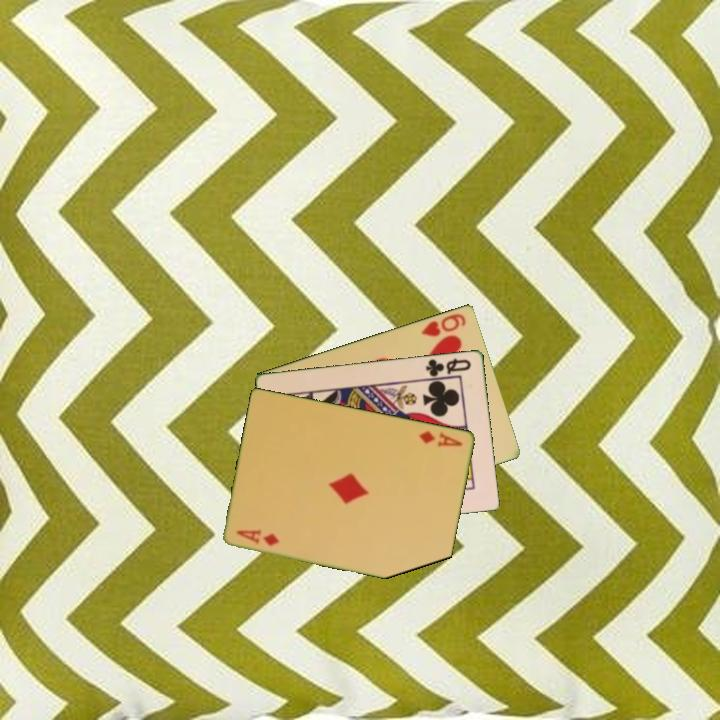6h: (418, 310, 469, 339)
Ad: (416, 427, 466, 450), (233, 526, 283, 549)
Qc: (422, 355, 474, 381)
